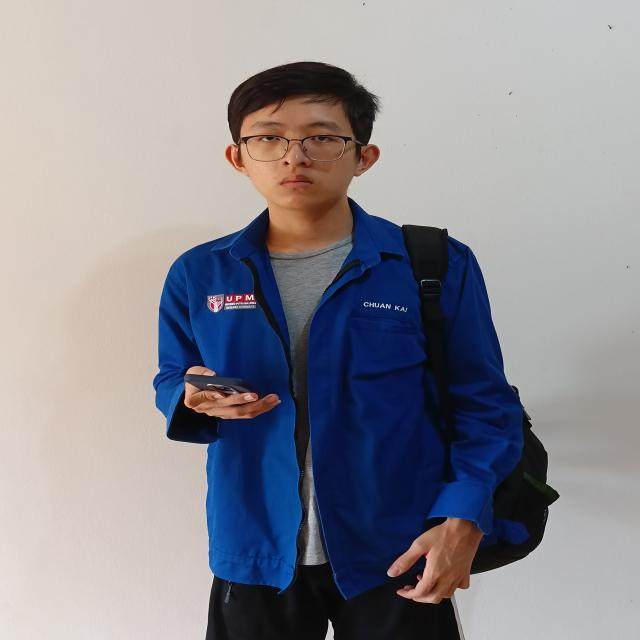person_with_labcoat: (154, 63, 558, 640)
